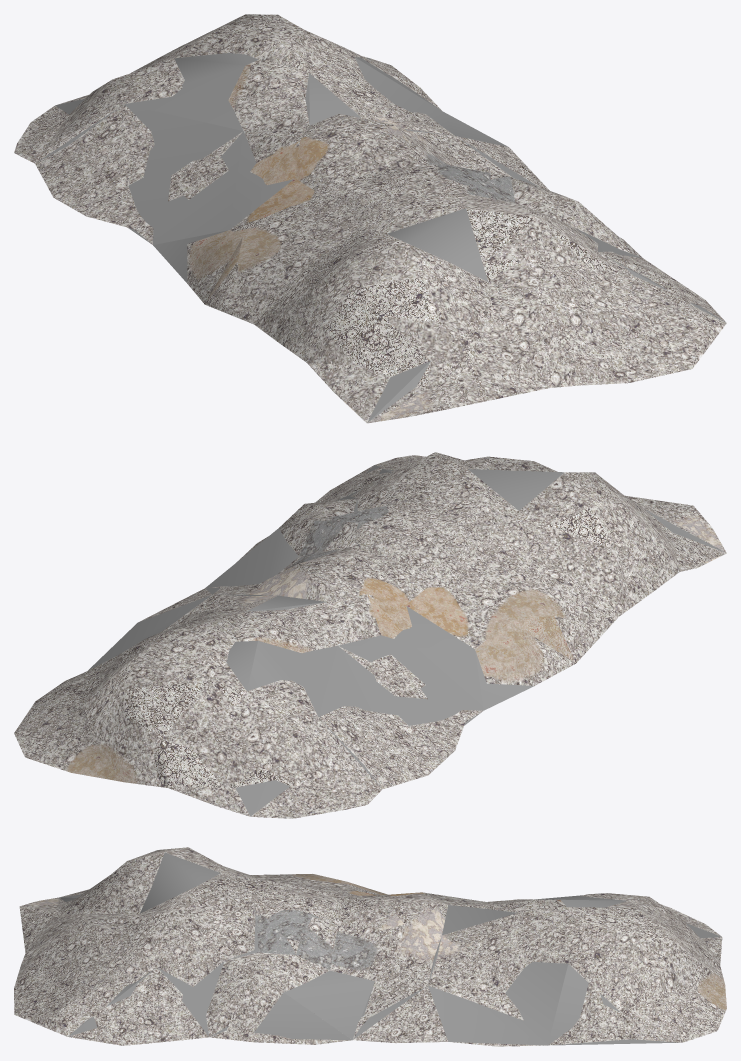
File: ut_debris_b.DAE
3 renders of one model, top to bottom at view 1: azimuth 30°, elevation 25°; view 2: azimuth 150°, elevation 25°; view 3: azimuth 270°, elevation 25°, orthographic. The views are drawn at different scales.
Parts seen in each view (by area): view 1: ut_debris_b150, ut_debris_b50, ut_debris_b15; view 2: ut_debris_b150, ut_debris_b50, ut_debris_b15; view 3: ut_debris_b150, ut_debris_b50, ut_debris_b15.
Boxes of the visible parts, box(x1,y1,x2,y2) form: ut_debris_b150: box(14, 14, 726, 423); ut_debris_b50: box(14, 16, 726, 422); ut_debris_b15: box(36, 53, 725, 422); ut_debris_b150: box(14, 452, 726, 818); ut_debris_b50: box(14, 454, 726, 816); ut_debris_b15: box(83, 465, 725, 816); ut_debris_b150: box(14, 847, 726, 1045); ut_debris_b50: box(14, 873, 722, 1046); ut_debris_b15: box(59, 852, 721, 1045).
Bounding box in the file's own units: 204 × 399 × 55.79.
